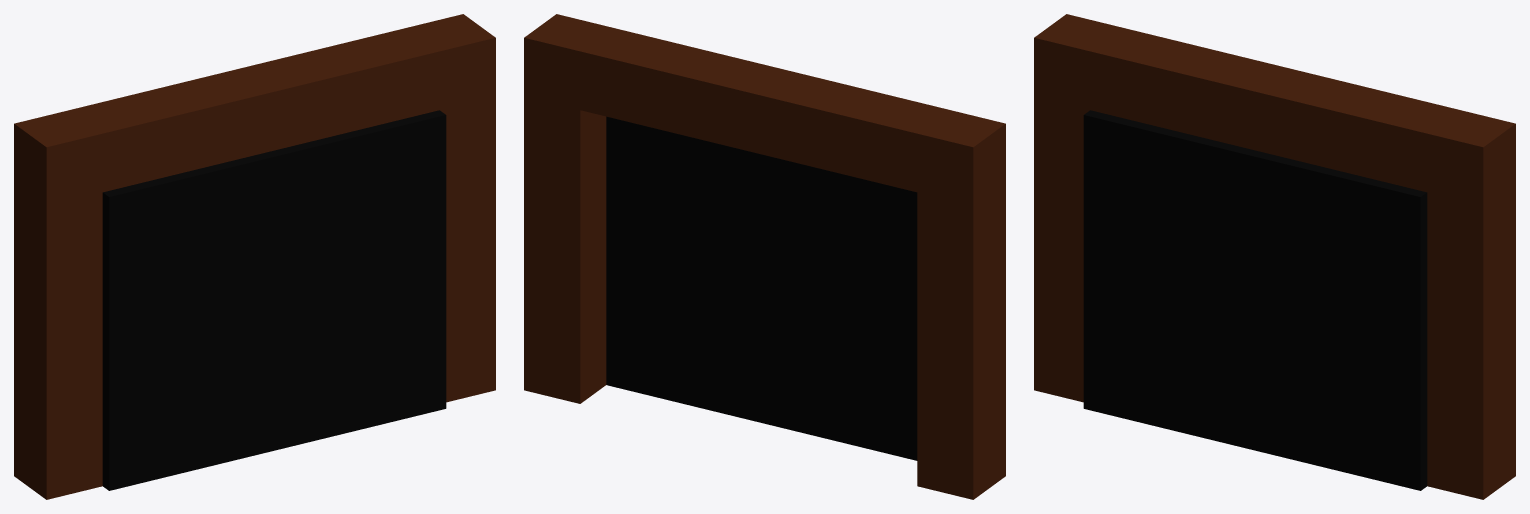
Rendered from Shaft Entrance.fbx.
3 views of the same model, side by side, from view 1: azimuth 30°, elevation 25°; view 2: azimuth 150°, elevation 25°; view 3: azimuth 330°, elevation 25° (orthographic).
Visible parts, largest first — view 1: Box004, Box001, Box003, Box002; view 2: Box004, Box001, Box003, Box002; view 3: Box004, Box002, Box003, Box001.
Part boxes in pixels (x1=…): Box004: x1=102, y1=110, x2=446, y2=490; Box001: x1=14, y1=110, x2=102, y2=499; Box003: x1=71, y1=28, x2=439, y2=192; Box002: x1=407, y1=14, x2=495, y2=402; Box004: x1=606, y1=116, x2=917, y2=460; Box001: x1=917, y1=110, x2=1005, y2=499; Box003: x1=580, y1=28, x2=948, y2=192; Box002: x1=524, y1=14, x2=612, y2=403; Box004: x1=1083, y1=110, x2=1427, y2=490; Box002: x1=1427, y1=110, x2=1515, y2=499; Box003: x1=1090, y1=28, x2=1458, y2=192; Box001: x1=1034, y1=14, x2=1122, y2=402.
Size of the model in its own units: 157 by 118 by 23.62.
